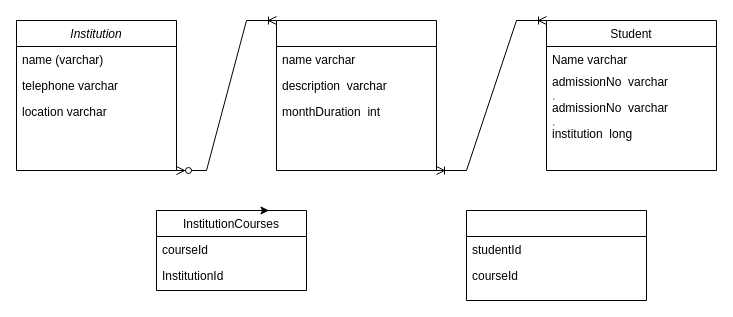
Some shapes in this 733 by 317 pixel diagram are drawn without their labels. Here are the shapes that lost their labels. From the top down, the box of each, then its label:
(276, 20, 436, 170): Courses
(466, 210, 646, 300): studentCourses
